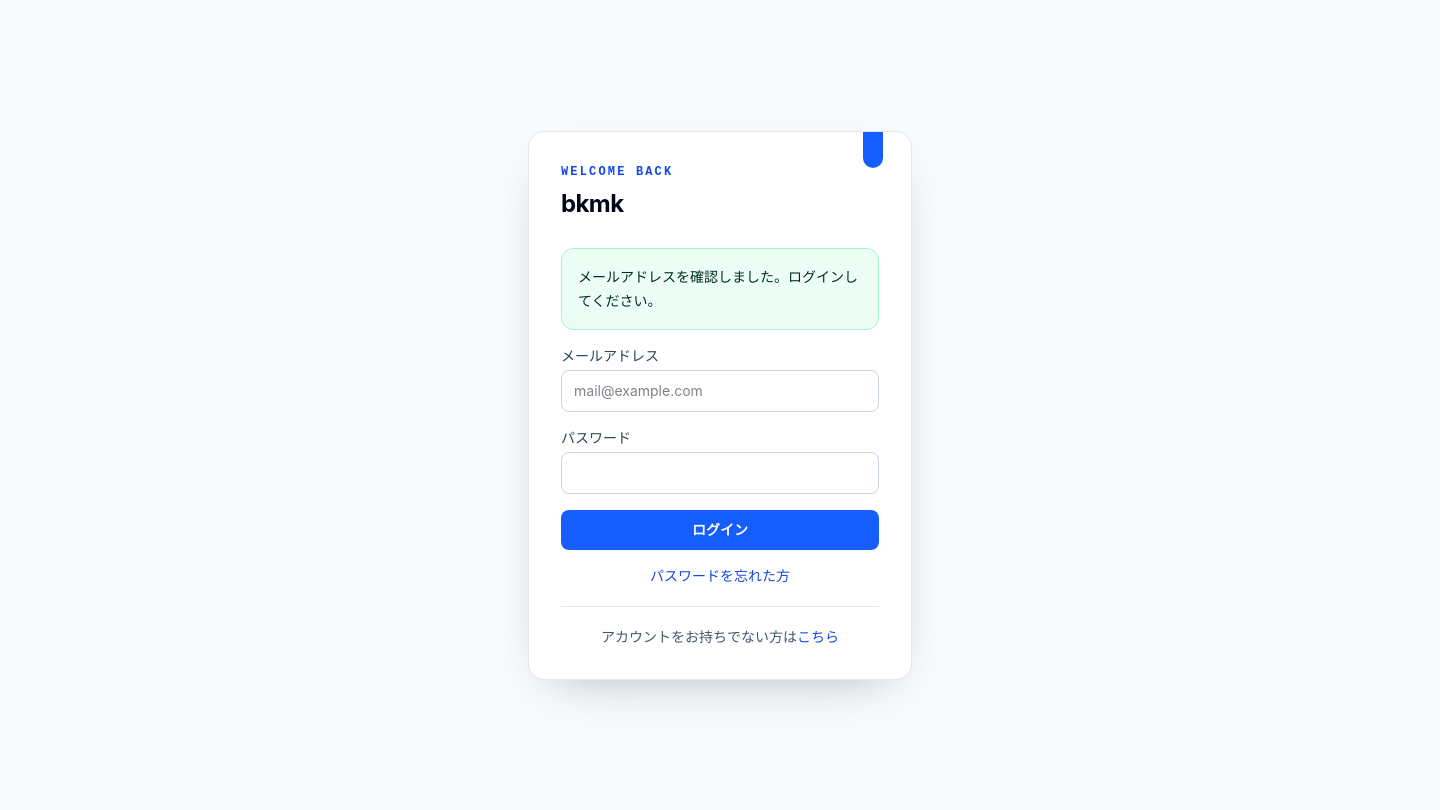
Test: LoginPage › 確認完了後のログイン成功時に完了状態をアプリへ引き継がない
Type "verified@example.com" into the field labelled "メールアドレス" at x=720, y=390, box [561, 370, 879, 412]
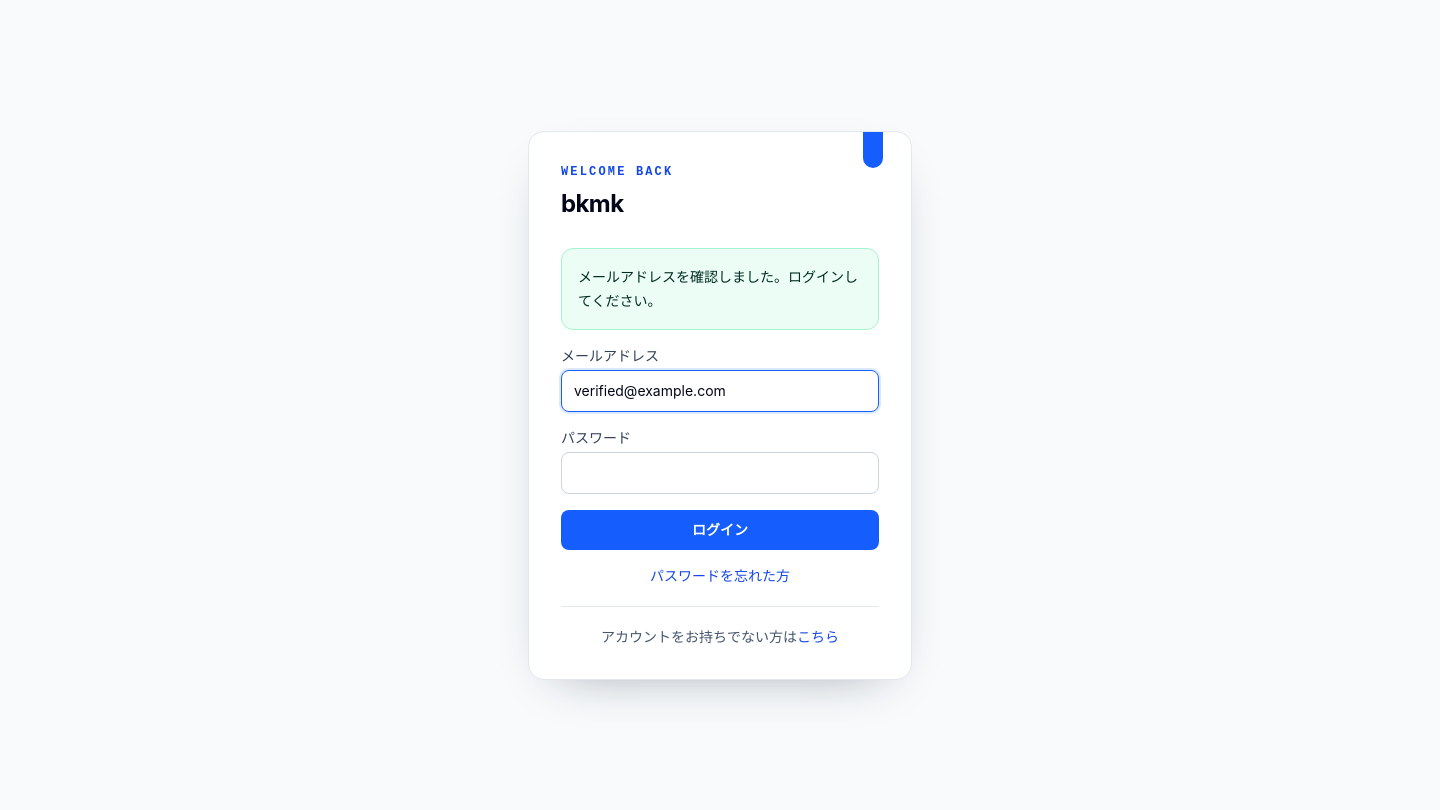
Type "password1234" into the password field labelled "パスワード" at x=720, y=472, box [561, 452, 879, 494]
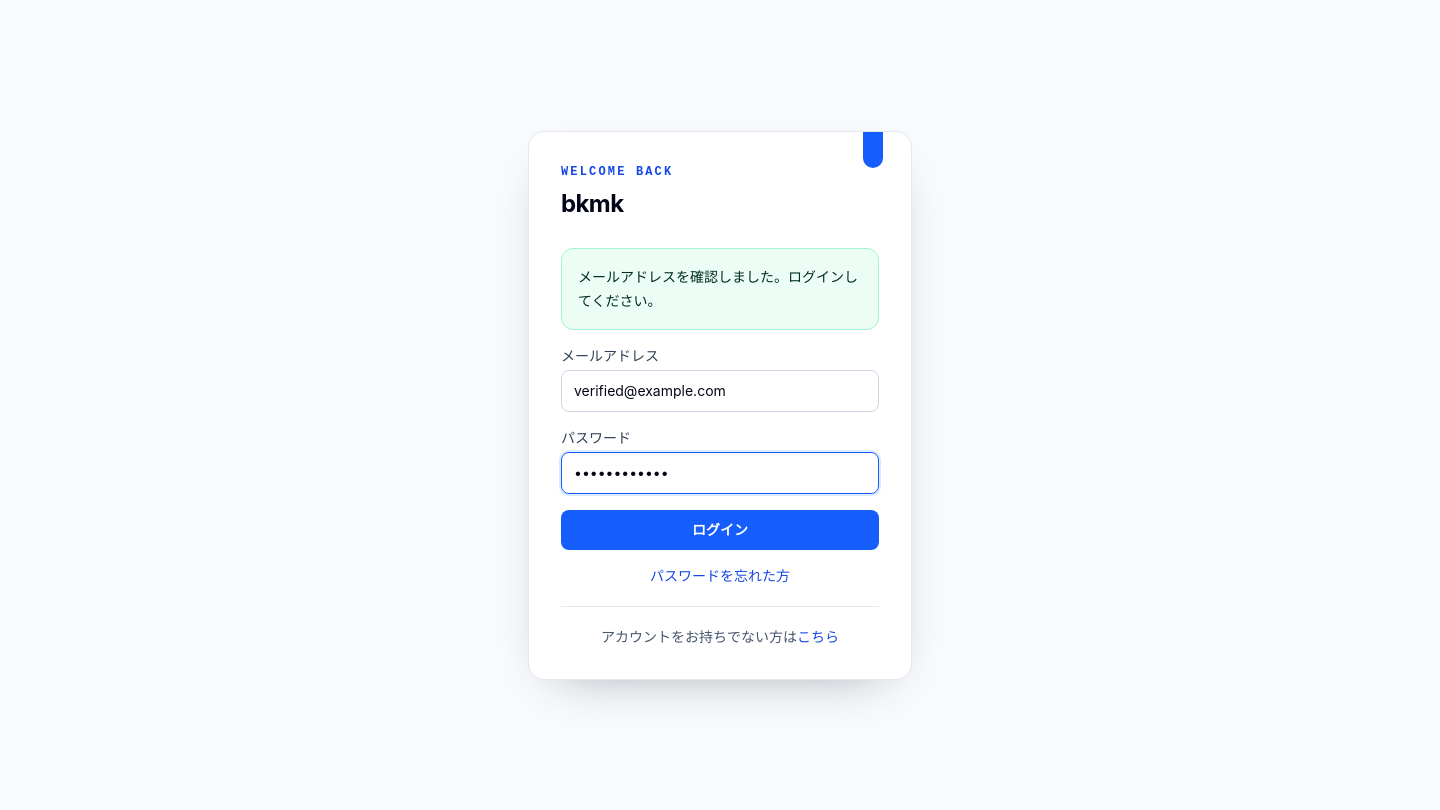
Click the button "ログイン" at x=720, y=530, box [561, 510, 879, 550]
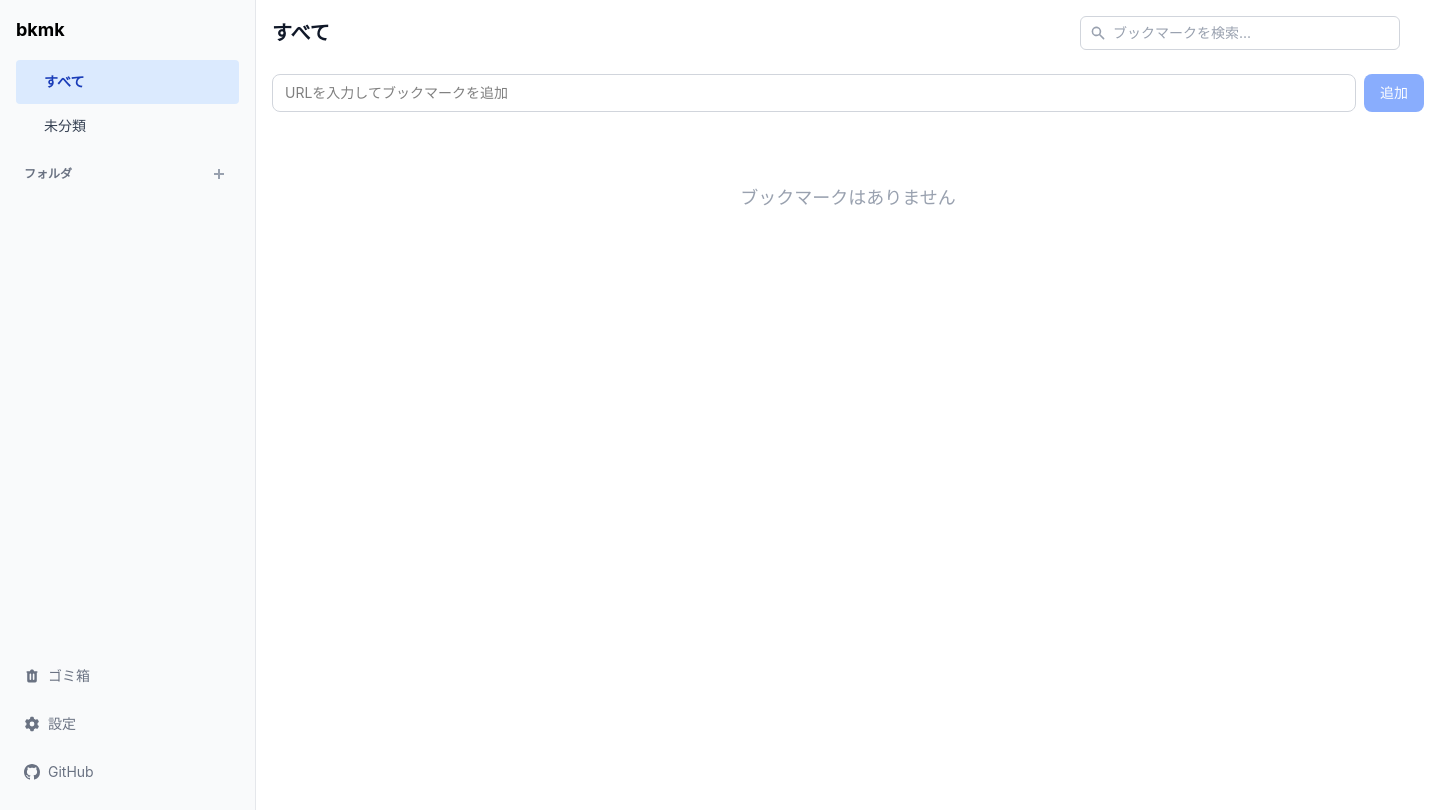
Now the text "メールアドレスを確認しました" is gone
